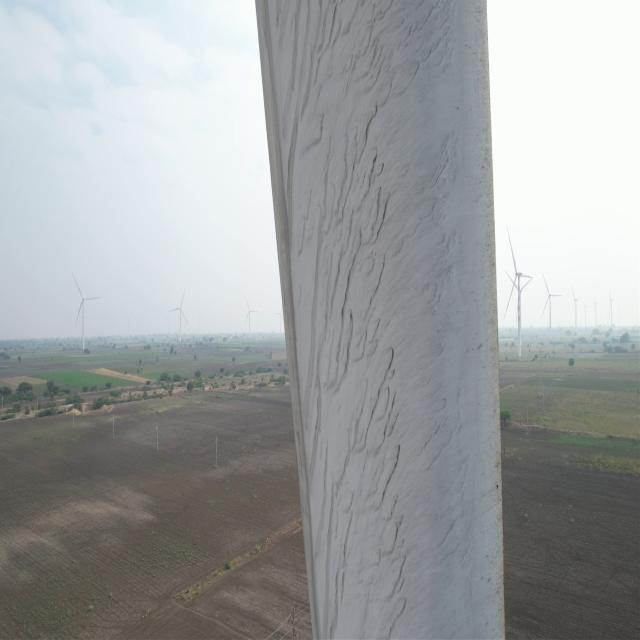Dirt: (252, 0, 502, 640)
